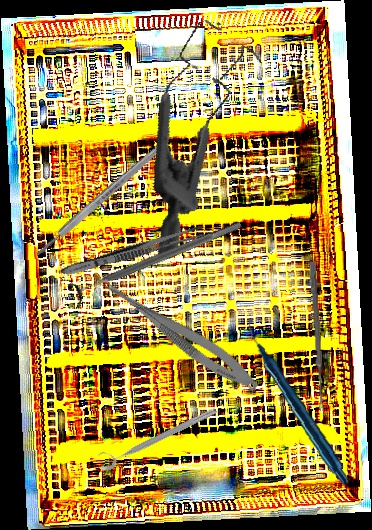Dressing Forceps: (58, 221, 209, 281)
Fixation Ring: (65, 211, 247, 310), (93, 397, 220, 474)
Handpiece: (238, 317, 360, 486)
Micro Scissor: (88, 269, 265, 398)
Scalpel Handle: (32, 138, 170, 260)
Speculum: (96, 8, 309, 261)
Surgical Spoon: (308, 261, 326, 412)
